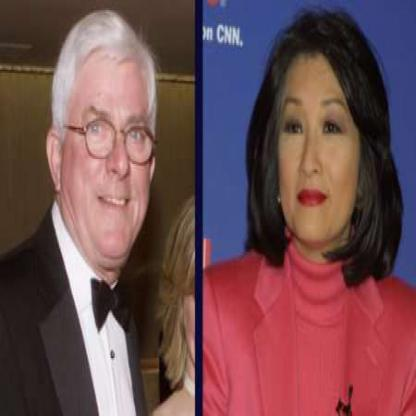face: (61, 18, 160, 266), (276, 27, 367, 250)
